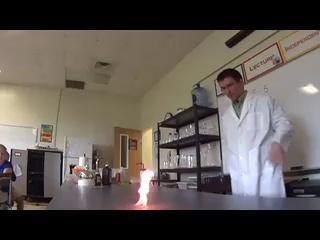Fire: (133, 167, 155, 207)
